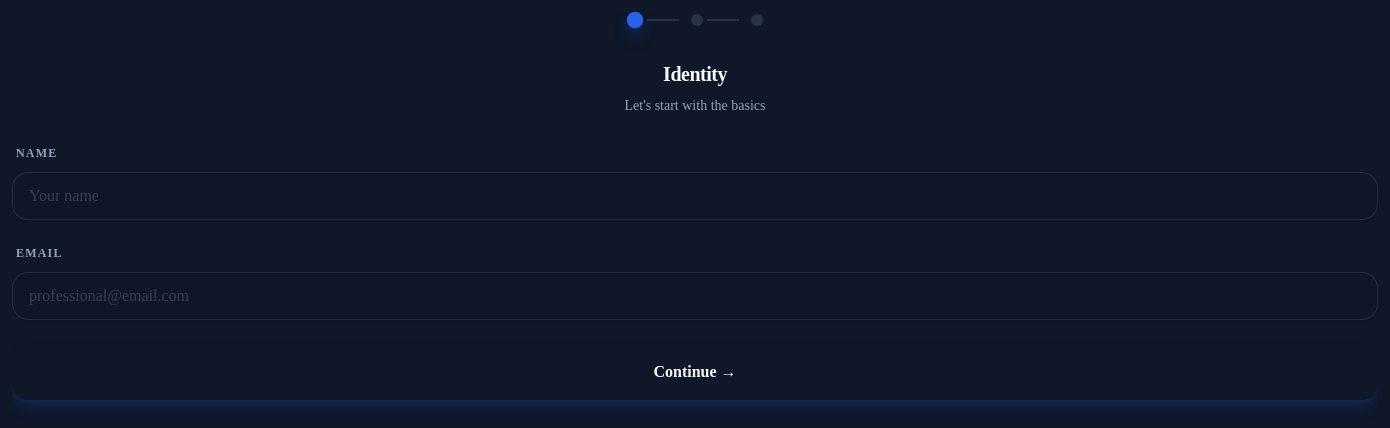
Test case: WaitlistForm › Full Variant › back button returns to step 1 and preserves step 1 data
In the field with placeholder "Your name": {"x": 695, "y": 196} [12,172,1378,220], type "Jane Doe"
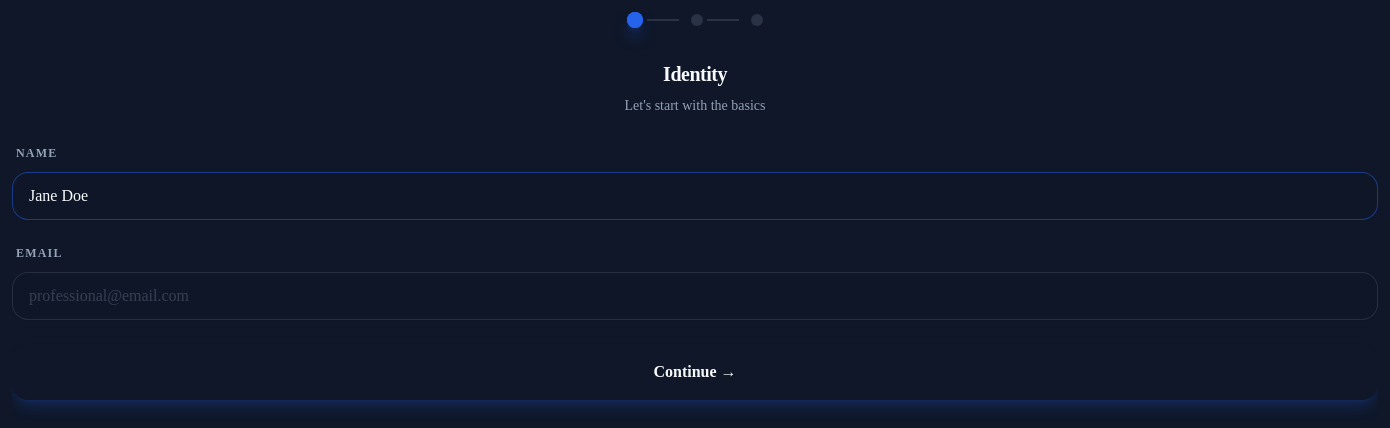
In the field with placeholder "professional@email.com": {"x": 695, "y": 296} [12,272,1378,320], type "jane@example.com"
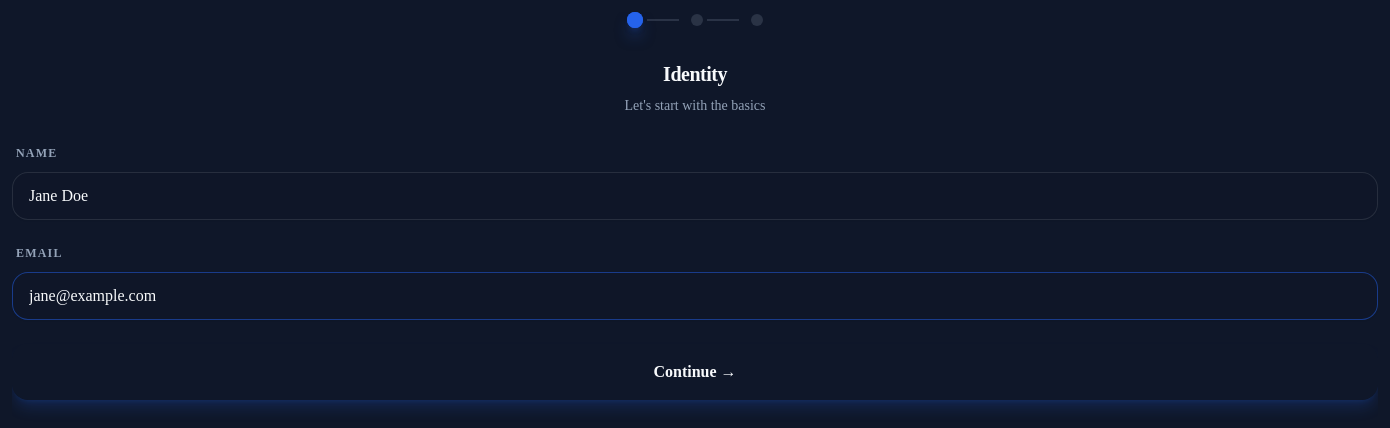
Submit the form "Identity Let's start with the basics Name Email Continue →"
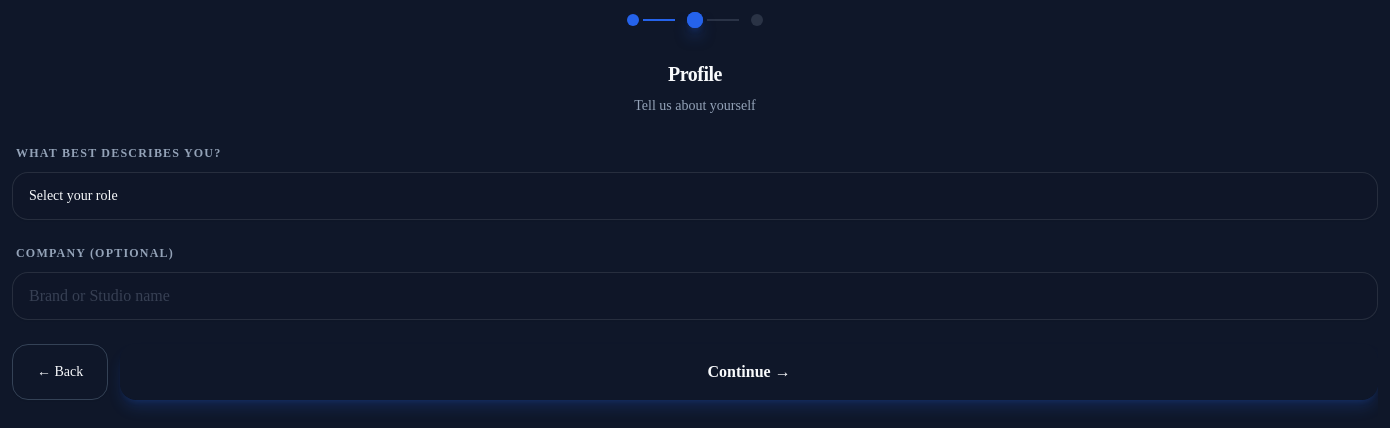
Expected: the heading "Profile" is shown, [668,63,722,85]
Click the button "← Back": {"x": 60, "y": 372} [12,344,108,400]
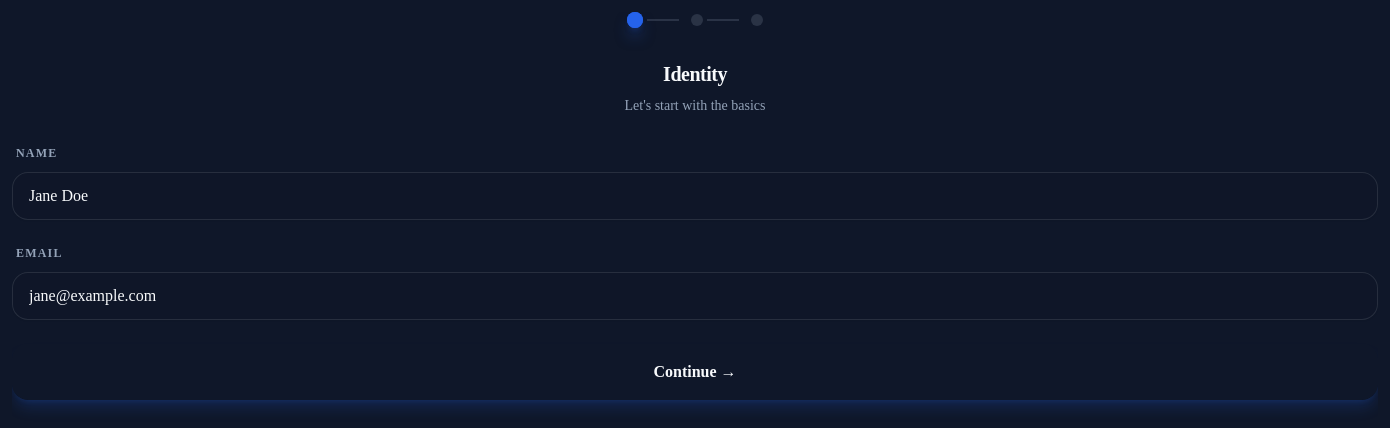
Expected: the field showing "Jane Doe" is shown, [12,172,1378,220]
Expected: the field showing "jane@example.com" is shown, [12,272,1378,320]
